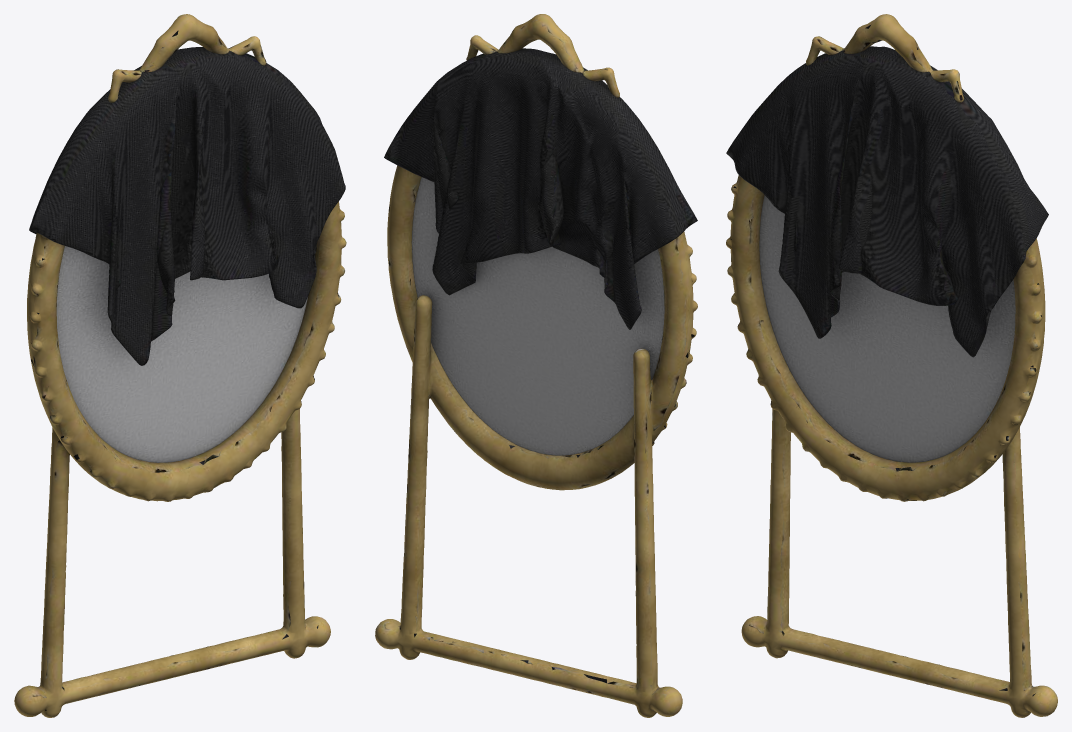
The model's file is shrouded_mirror.glb.
3 views of the same model, side by side, from view 1: azimuth 30°, elevation 25°; view 2: azimuth 150°, elevation 25°; view 3: azimuth 330°, elevation 25° (orthographic). The views are drawn at different scales.
Visible parts, largest first — view 1: Shroud, Mirror_Frame, Mirror_Glass; view 2: Shroud, Mirror_Frame, Mirror_Glass; view 3: Shroud, Mirror_Frame, Mirror_Glass.
Boxes of the visible parts, x1,y1,x2,y2 form: Shroud: (29,47,345,365); Mirror_Frame: (14,14,346,717); Mirror_Glass: (56,246,307,462); Shroud: (384,48,697,329); Mirror_Frame: (375,14,697,717); Mirror_Glass: (411,177,664,455); Shroud: (726,46,1048,357); Mirror_Frame: (726,14,1057,717); Mirror_Glass: (759,195,1015,462).
Size of the model in its own units: 0.9286 by 1.92 by 0.2619.
1 material, 1 textured.
